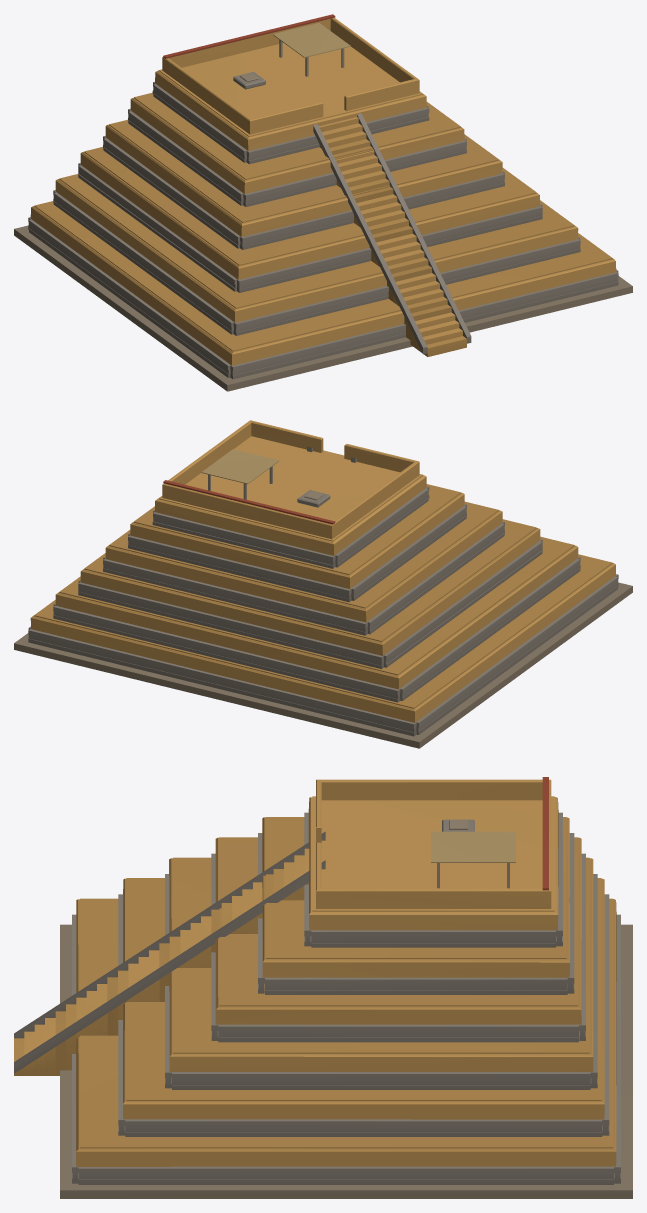
The model's file is caral_pyramid_mayor_lod0.glb.
3 views of the same model, one above another, from view 1: azimuth 30°, elevation 25°; view 2: azimuth 150°, elevation 25°; view 3: azimuth 270°, elevation 25° (orthographic). The views are drawn at different scales.
Parts seen in each view (by area): view 1: GEO-Arch_pyramid_mayor_LOD0; view 2: GEO-Arch_pyramid_mayor_LOD0; view 3: GEO-Arch_pyramid_mayor_LOD0.
Part boxes in pixels (left/top/right/bottom): GEO-Arch_pyramid_mayor_LOD0: left=14, top=14, right=632, bottom=391; GEO-Arch_pyramid_mayor_LOD0: left=14, top=420, right=632, bottom=748; GEO-Arch_pyramid_mayor_LOD0: left=14, top=777, right=632, bottom=1198.
Size of the model in its own units: 45.4 by 19.34 by 44.71.
